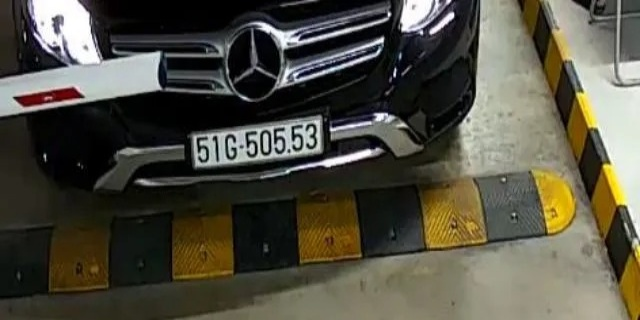bien_so: (193, 126, 326, 160)
